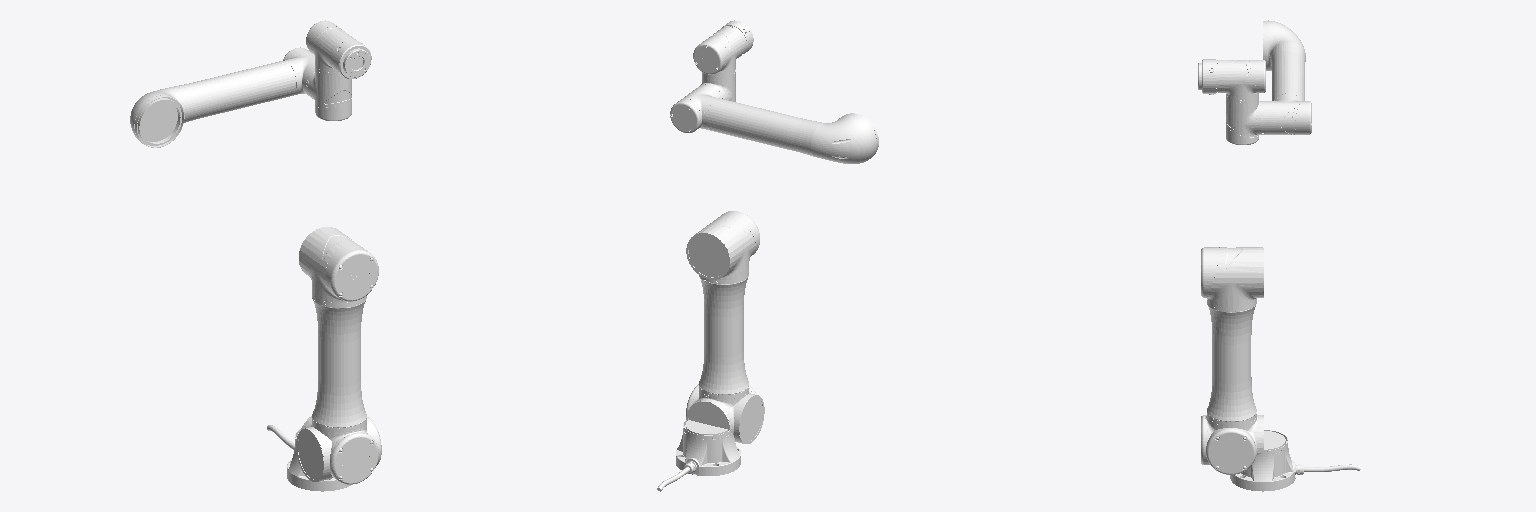
URDF robot description (R6.SLDASM):
<?xml version="1.0" encoding="utf-8"?>
<!-- This URDF was automatically created by SolidWorks to URDF Exporter! Originally created by Stephen Brawner (brawner@gmail.com) 
     Commit Version: 1.6.0-4-g7f85cfe  Build Version: 1.6.7995.38578
     For more information, please see http://wiki.ros.org/sw_urdf_exporter -->
<robot
  name="R6.SLDASM">
  <link
    name="base_link">
    <inertial>
      <origin
        xyz="-1.7601E-06 -0.0024492 -0.053766"
        rpy="0 0 0" />
      <mass
        value="1.2411" />
      <inertia
        ixx="0.0022415"
        ixy="-6.7738E-09"
        ixz="-4.0519E-08"
        iyy="0.0022228"
        iyz="3.1256E-06"
        izz="0.0026546" />
    </inertial>
    <visual>
      <origin
        xyz="0 0 0"
        rpy="0 0 0" />
      <geometry>
        <mesh
          filename="package://R6.SLDASM/meshes/base_link.STL" />
      </geometry>
      <material
        name="">
        <color
          rgba="1 1 1 1" />
      </material>
    </visual>
    <collision>
      <origin
        xyz="0 0 0"
        rpy="0 0 0" />
      <geometry>
        <mesh
          filename="package://R6.SLDASM/meshes/base_link.STL" />
      </geometry>
    </collision>
  </link>
  <link
    name="J1_Link">
    <inertial>
      <origin
        xyz="0.00034661 5.5165E-07 -0.065302"
        rpy="3.1416 0 0" />
      <mass
        value="1.7718" />
      <inertia
        ixx="0.0034603"
        ixy="5.0191E-08"
        ixz="-0.00031259"
        iyy="0.0036161"
        iyz="-3.044E-08"
        izz="0.0032856" />
    </inertial>
    <visual>
      <origin
        xyz="0 0 0"
        rpy="3.1416 0 0" />
      <geometry>
        <mesh
          filename="package://R6.SLDASM/meshes/J1_Link.STL" />
      </geometry>
      <material
        name="">
        <color
          rgba="1 1 1 1" />
      </material>
    </visual>
    <collision>
      <origin
        xyz="0 0 0"
        rpy="3.1416 0 0" />
      <geometry>
        <mesh
          filename="package://R6.SLDASM/meshes/J1_Link.STL" />
      </geometry>
    </collision>
  </link>
  <joint
    name="J1"
    type="revolute">
    <origin
      xyz="0 0 0"
      rpy="1.5708 -1.5708 0" />
    <parent
      link="base_link" />
    <child
      link="J1_Link" />
    <axis
      xyz="-1 0 0" />
    <limit
      lower="-6.283"
      upper="6.283"
      effort="0"
      velocity="0" />
  </joint>
  <link
    name="J2_Link">
    <inertial>
      <origin
        xyz="-0.21229 1.2183E-07 -0.071719"
        rpy="0 0 0" />
      <mass
        value="5.5901" />
      <inertia
        ixx="0.0089952"
        ixy="-3.5737E-08"
        ixz="-9.5329E-10"
        iyy="0.024333"
        iyz="6.5749E-09"
        izz="0.024022" />
    </inertial>
    <visual>
      <origin
        xyz="0 0 0"
        rpy="0 0 0" />
      <geometry>
        <mesh
          filename="package://R6.SLDASM/meshes/J2_Link.STL" />
      </geometry>
      <material
        name="">
        <color
          rgba="1 1 1 1" />
      </material>
    </visual>
    <collision>
      <origin
        xyz="0 0 0"
        rpy="0 0 0" />
      <geometry>
        <mesh
          filename="package://R6.SLDASM/meshes/J2_Link.STL" />
      </geometry>
    </collision>
  </link>
  <joint
    name="J2"
    type="revolute">
    <origin
      xyz="0.4245 0 0"
      rpy="3.1416 0 0" />
    <parent
      link="J1_Link" />
    <child
      link="J2_Link" />
    <axis
      xyz="0 0 1" />
    <limit
      lower="-6.283"
      upper="6.283"
      effort="0"
      velocity="0" />
  </joint>
  <link
    name="J3_Link">
    <inertial>
      <origin
        xyz="3.0184E-06 -0.19703 -0.050258"
        rpy="0 0 0" />
      <mass
        value="2.5895" />
      <inertia
        ixx="0.011067"
        ixy="4.4193E-08"
        ixz="-1.3101E-07"
        iyy="0.0022576"
        iyz="8.2629E-05"
        izz="0.011146" />
    </inertial>
    <visual>
      <origin
        xyz="0 0 0"
        rpy="0 0 0" />
      <geometry>
        <mesh
          filename="package://R6.SLDASM/meshes/J3_Link.STL" />
      </geometry>
      <material
        name="">
        <color
          rgba="1 1 1 1" />
      </material>
    </visual>
    <collision>
      <origin
        xyz="0 0 0"
        rpy="0 0 0" />
      <geometry>
        <mesh
          filename="package://R6.SLDASM/meshes/J3_Link.STL" />
      </geometry>
    </collision>
  </link>
  <joint
    name="J3"
    type="revolute">
    <origin
      xyz="0.393 0 0.004"
      rpy="3.1416 0 1.5708" />
    <parent
      link="J2_Link" />
    <child
      link="J3_Link" />
    <axis
      xyz="0 0 -1" />
    <limit
      lower="-2.88"
      upper="2.88"
      effort="0"
      velocity="0" />
  </joint>
  <link
    name="J4_Link">
    <inertial>
      <origin
        xyz="-1.4824E-05 0.0055663 -0.054124"
        rpy="0 0 0" />
      <mass
        value="0.58902" />
      <inertia
        ixx="0.00056398"
        ixy="3.9788E-08"
        ixz="1.0499E-07"
        iyy="0.00050613"
        iyz="5.9253E-05"
        izz="0.00051321" />
    </inertial>
    <visual>
      <origin
        xyz="0 0 0"
        rpy="0 0 0" />
      <geometry>
        <mesh
          filename="package://R6.SLDASM/meshes/J4_Link.STL" />
      </geometry>
      <material
        name="">
        <color
          rgba="1 1 1 1" />
      </material>
    </visual>
    <collision>
      <origin
        xyz="0 0 0"
        rpy="0 0 0" />
      <geometry>
        <mesh
          filename="package://R6.SLDASM/meshes/J4_Link.STL" />
      </geometry>
    </collision>
  </link>
  <joint
    name="J4"
    type="revolute">
    <origin
      xyz="0 0.0542 0.051"
      rpy="-1.5708 0 0" />
    <parent
      link="J3_Link" />
    <child
      link="J4_Link" />
    <axis
      xyz="0 -1 0" />
    <limit
      lower="-6.283"
      upper="6.283"
      effort="0"
      velocity="0" />
  </joint>
  <link
    name="J5_Link">
    <inertial>
      <origin
        xyz="1.3819E-05 -0.0055658 -0.053924"
        rpy="0 0 0" />
      <mass
        value="0.58903" />
      <inertia
        ixx="0.000564"
        ixy="6.8073E-08"
        ixz="-1.2514E-07"
        iyy="0.00050616"
        iyz="-5.9246E-05"
        izz="0.00051326" />
    </inertial>
    <visual>
      <origin
        xyz="0 0 0"
        rpy="0 0 0" />
      <geometry>
        <mesh
          filename="package://R6.SLDASM/meshes/J5_Link.STL" />
      </geometry>
      <material
        name="">
        <color
          rgba="1 1 1 1" />
      </material>
    </visual>
    <collision>
      <origin
        xyz="0 0 0"
        rpy="0 0 0" />
      <geometry>
        <mesh
          filename="package://R6.SLDASM/meshes/J5_Link.STL" />
      </geometry>
    </collision>
  </link>
  <joint
    name="J5"
    type="revolute">
    <origin
      xyz="0 -0.054 0.051"
      rpy="1.5708 0 0" />
    <parent
      link="J4_Link" />
    <child
      link="J5_Link" />
    <axis
      xyz="0 1 0" />
    <limit
      lower="-6.283"
      upper="6.283"
      effort="0"
      velocity="0" />
  </joint>
  <link
    name="J6_Link">
    <inertial>
      <origin
        xyz="-7.2724E-08 1.8938E-06 -0.024928"
        rpy="0 0 0" />
      <mass
        value="0.2059" />
      <inertia
        ixx="8.3442E-05"
        ixy="-6.2623E-11"
        ixz="1.877E-10"
        iyy="8.4686E-05"
        iyz="-9.4221E-09"
        izz="0.00014583" />
    </inertial>
    <visual>
      <origin
        xyz="0 0 0"
        rpy="0 0 0" />
      <geometry>
        <mesh
          filename="package://R6.SLDASM/meshes/J6_Link.STL" />
      </geometry>
      <material
        name="">
        <color
          rgba="1 1 1 1" />
      </material>
    </visual>
    <collision>
      <origin
        xyz="0 0 0"
        rpy="0 0 0" />
      <geometry>
        <mesh
          filename="package://R6.SLDASM/meshes/J6_Link.STL" />
      </geometry>
    </collision>
  </link>
  <joint
    name="J6"
    type="revolute">
    <origin
      xyz="0 0 0.0478"
      rpy="0 0 0" />
    <parent
      link="J5_Link" />
    <child
      link="J6_Link" />
    <axis
      xyz="0 0 1" />
    <limit
      lower="-6.283"
      upper="6.283"
      effort="0"
      velocity="0" />
  </joint>
</robot>

--- Facts derived from the render (not from the file) ---
The picture shows the robot from 3 angles, left to right: view 1: azimuth 30°, elevation 25°; view 2: azimuth 150°, elevation 25°; view 3: azimuth 270°, elevation 25°; orthographic projection.
Model R6.SLDASM with 7 links and 6 joints (6 revolute), rooted at base_link, posed all joints at 0.
Visible links, largest first — view 1: J2_Link, J3_Link, J4_Link, J1_Link, J5_Link, J6_Link, base_link; view 2: J2_Link, J3_Link, base_link, J1_Link, J5_Link, J4_Link; view 3: J2_Link, J3_Link, base_link, J1_Link, J5_Link, J4_Link, J6_Link.
Boxes of the visible links, x1,y1,x2,y2 form: J2_Link: [299, 227, 378, 484]; J3_Link: [130, 47, 314, 147]; J4_Link: [306, 68, 351, 120]; J1_Link: [296, 417, 381, 481]; J5_Link: [306, 20, 355, 74]; J6_Link: [331, 39, 371, 78]; base_link: [267, 425, 350, 491]; J2_Link: [686, 211, 759, 432]; J3_Link: [670, 85, 878, 163]; base_link: [657, 420, 740, 491]; J1_Link: [686, 384, 764, 443]; J5_Link: [693, 27, 744, 77]; J4_Link: [700, 70, 735, 101]; J2_Link: [1201, 247, 1263, 464]; J3_Link: [1263, 20, 1311, 134]; base_link: [1230, 430, 1361, 491]; J1_Link: [1206, 421, 1262, 474]; J5_Link: [1219, 60, 1265, 102]; J4_Link: [1226, 98, 1263, 144]; J6_Link: [1198, 59, 1218, 94].
Bounding box of the posed robot: 0.526 × 0.3757 × 1.06 m (x, y, z).
7 mesh visuals loaded from 7 distinct referenced files (7 binary STL).
